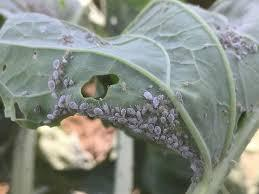Bok-Choy-Diseased: (25, 21, 231, 140)
